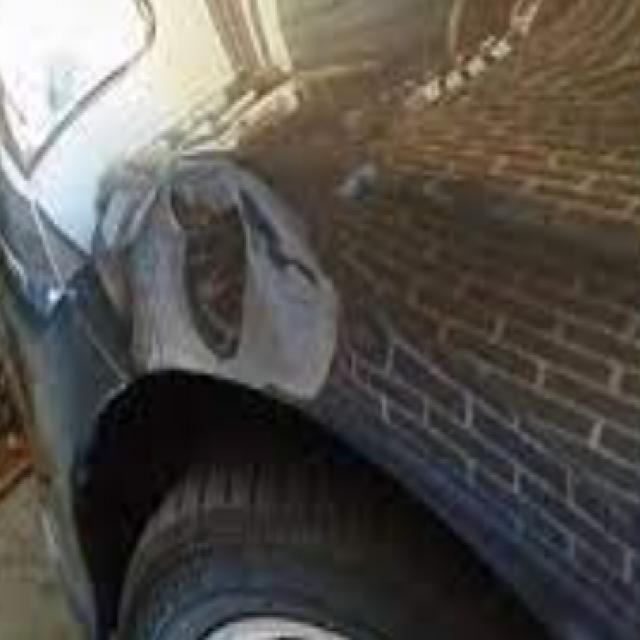dents: (107, 161, 382, 405)
